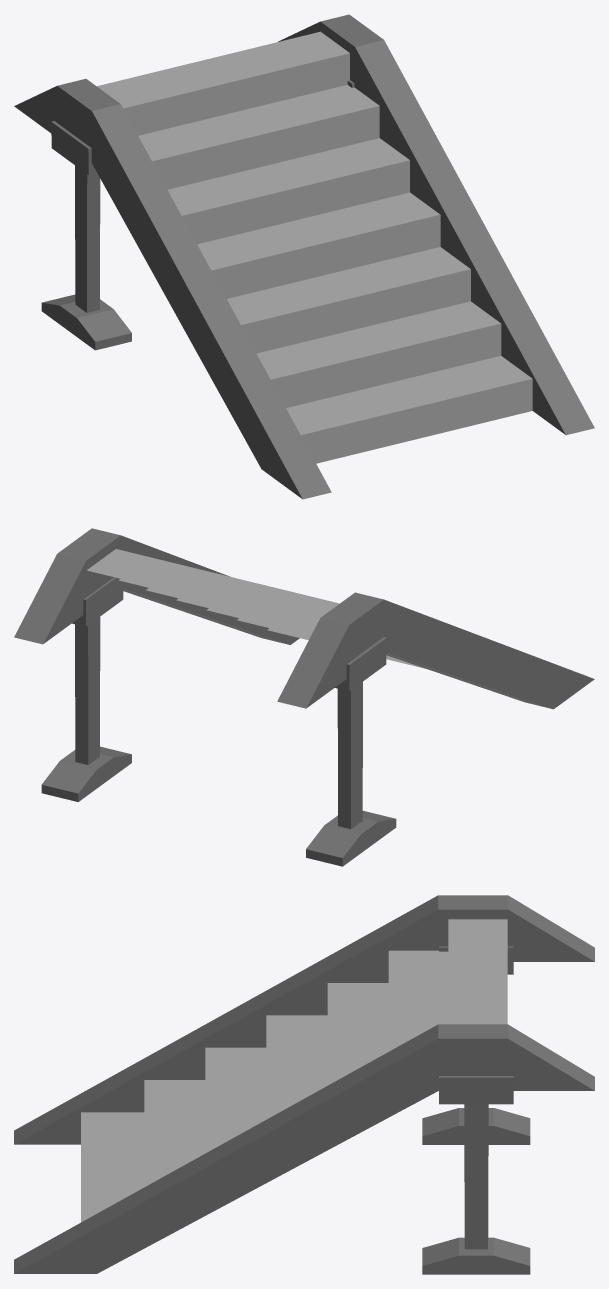
The model's file is Stairs.glb.
3 renders of one model, top to bottom at view 1: azimuth 30°, elevation 25°; view 2: azimuth 150°, elevation 25°; view 3: azimuth 270°, elevation 25°, orthographic.
Visible parts, largest first — view 1: Stairs; view 2: Stairs; view 3: Stairs.
Boxes of the visible parts, x1,y1,x2,y2 form: Stairs: (14,14,594,499); Stairs: (14,528,594,866); Stairs: (14,895,594,1274).
Bounding box in the file's own units: 1.87 × 1.39 × 3.11.
1 material, 1 textured.
